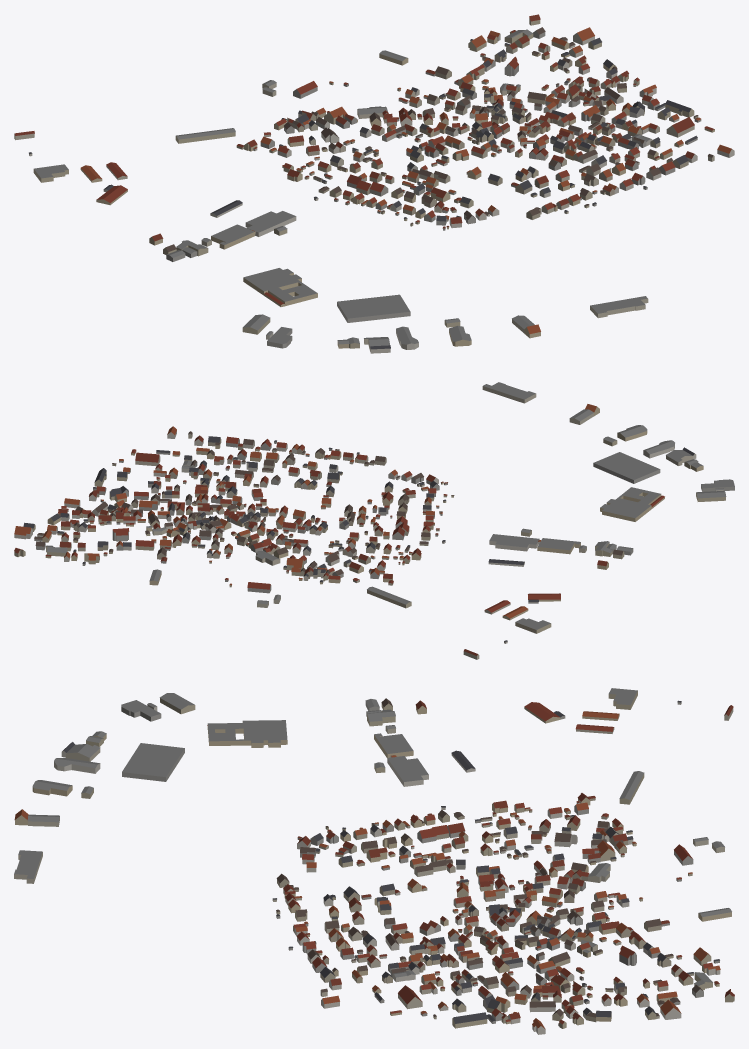
3 renders of one model, top to bottom at view 1: azimuth 30°, elevation 25°; view 2: azimuth 150°, elevation 25°; view 3: azimuth 270°, elevation 25°, orthographic. The views are drawn at different scales.
Parts seen in each view (by area): view 1: buildings; view 2: buildings; view 3: buildings.
Part boxes in pixels (x1,y1,x2,y2): buildings: (14, 14, 734, 353); buildings: (14, 382, 734, 659); buildings: (14, 688, 734, 1034).
Bounding box in the file's own units: 831 × 45.77 × 813.
